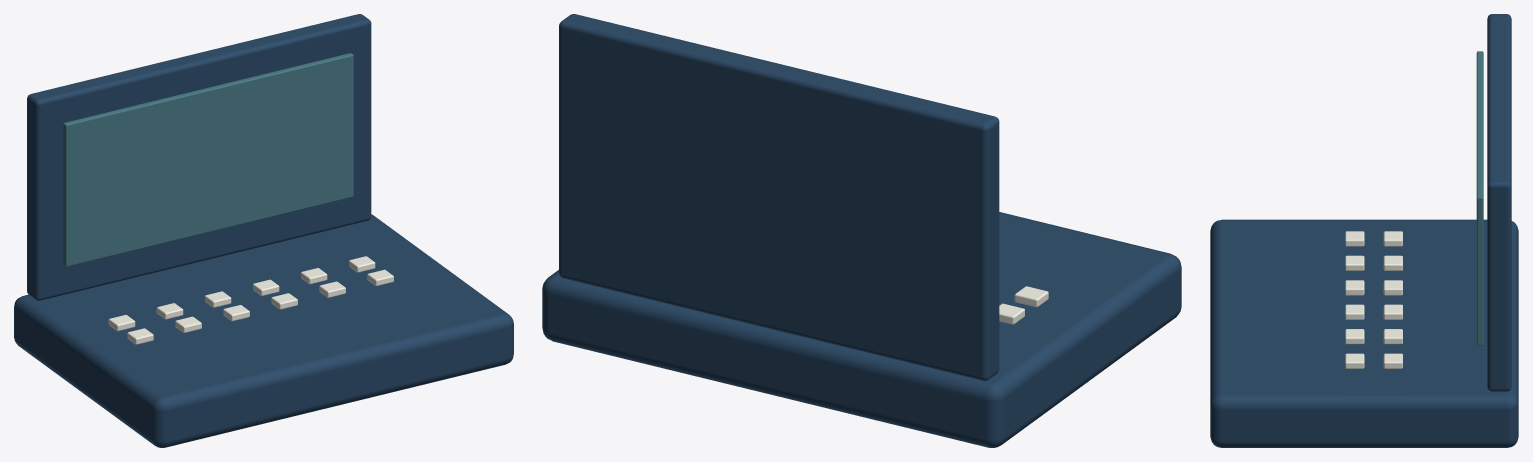
Rendered from rowing-boathouse-and-regatta-course-timing-console-b35c57c6__32164.glb.
3 renders of one model, left to right at view 1: azimuth 30°, elevation 25°; view 2: azimuth 150°, elevation 25°; view 3: azimuth 270°, elevation 25°, orthographic. The views are drawn at different scales.
Visible parts, largest first — view 1: timing-console; view 2: timing-console; view 3: timing-console.
Boxes of the visible parts, left/top/right/bottom form: timing-console: left=14, top=14, right=513, bottom=447; timing-console: left=542, top=14, right=1181, bottom=447; timing-console: left=1210, top=14, right=1518, bottom=447.
Bounding box in the file's own units: 0.45 × 0.3 × 0.32.
